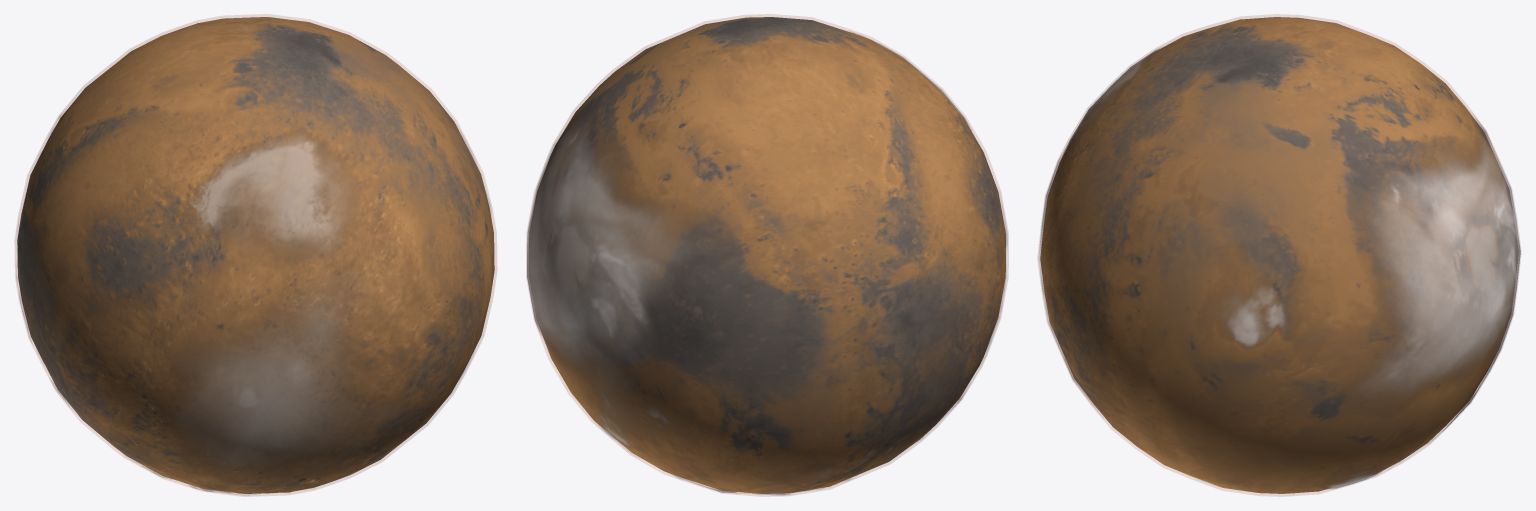
Rendered from mars.glb.
3 views of the same model, side by side, from view 1: azimuth 30°, elevation 25°; view 2: azimuth 150°, elevation 25°; view 3: azimuth 270°, elevation 25° (orthographic).
Visible parts, largest first — view 1: Mars, Clouds, Dust, Atmosphere; view 2: Mars, Clouds, Atmosphere; view 3: Mars, Clouds, Atmosphere, Dust.
Boxes of the visible parts, x1,y1,x2,y2 form: Mars: [17, 17, 494, 493]; Clouds: [16, 22, 489, 495]; Dust: [106, 128, 365, 418]; Atmosphere: [14, 14, 497, 496]; Mars: [529, 17, 1005, 493]; Clouds: [527, 48, 1007, 495]; Atmosphere: [526, 14, 1008, 496]; Mars: [1040, 17, 1518, 493]; Clouds: [1040, 41, 1520, 488]; Atmosphere: [1037, 14, 1521, 496]; Dust: [1061, 48, 1159, 160].
Bounding box in the file's own units: 6.85 × 6.84 × 6.86.
4 materials, 3 textured.
